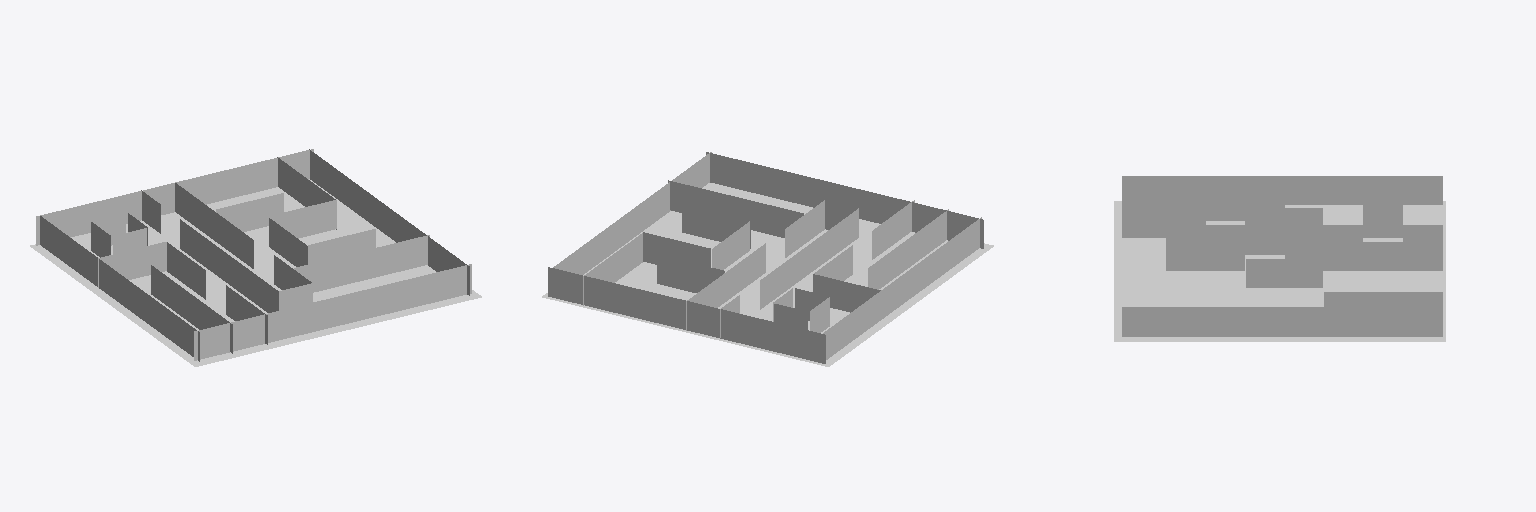
File: test_hall5_cd.obj
The picture shows the model from 3 angles: view 1: azimuth 30°, elevation 25°; view 2: azimuth 150°, elevation 25°; view 3: azimuth 270°, elevation 25°; orthographic projection.
Parts seen in each view (by area): view 1: mesh01; view 2: mesh01; view 3: mesh01.
Part boxes in pixels (x1,y1,x2,y2): mesh01: (30, 149, 481, 366); mesh01: (542, 152, 993, 366); mesh01: (1114, 176, 1445, 341).
Size of the model in its own units: 7432 by 766 by 7432.